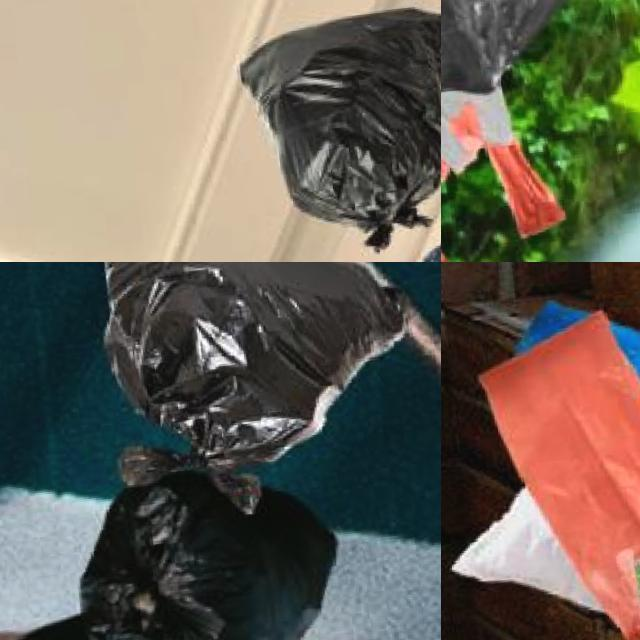waste: (85, 262, 420, 507), (441, 323, 640, 640), (489, 288, 640, 625), (75, 466, 345, 640), (248, 0, 441, 240), (441, 0, 574, 262), (441, 0, 640, 124)
